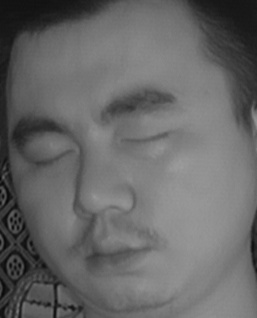blink: (123, 119, 170, 158), (26, 137, 72, 173)
mouth: (74, 227, 154, 281)
